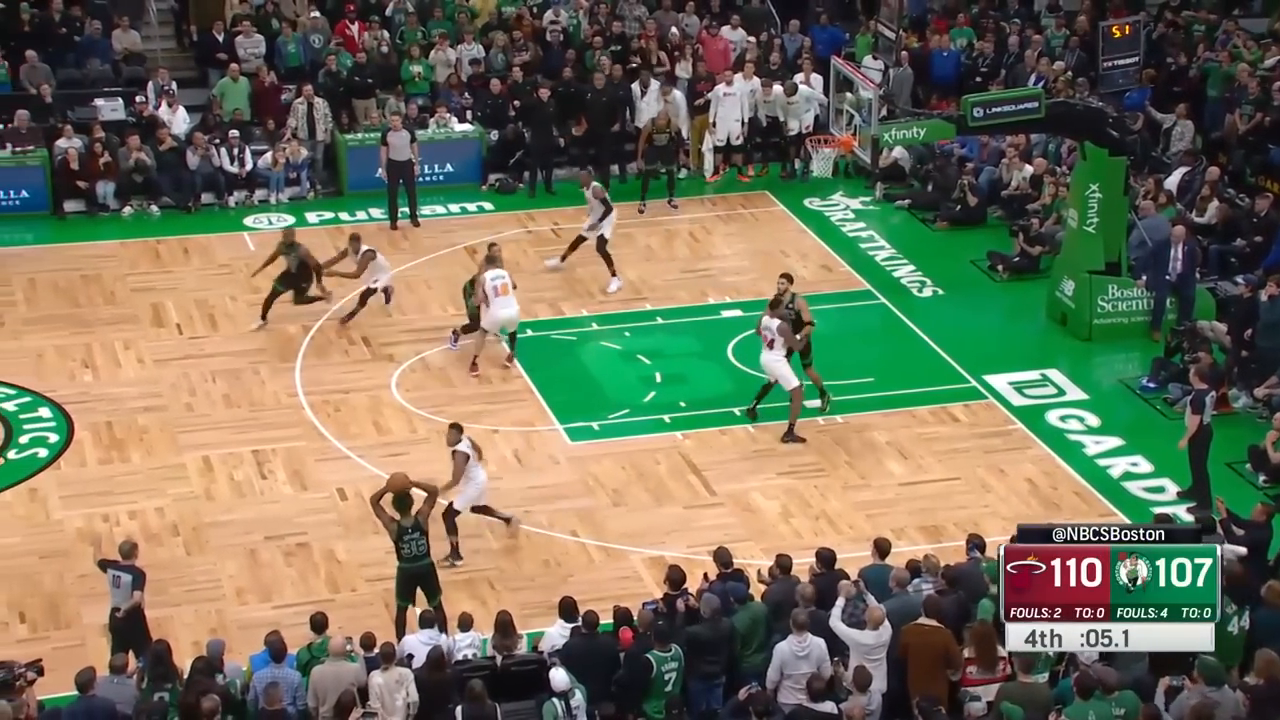ball: (384, 470, 415, 498)
net: (804, 134, 842, 180)
